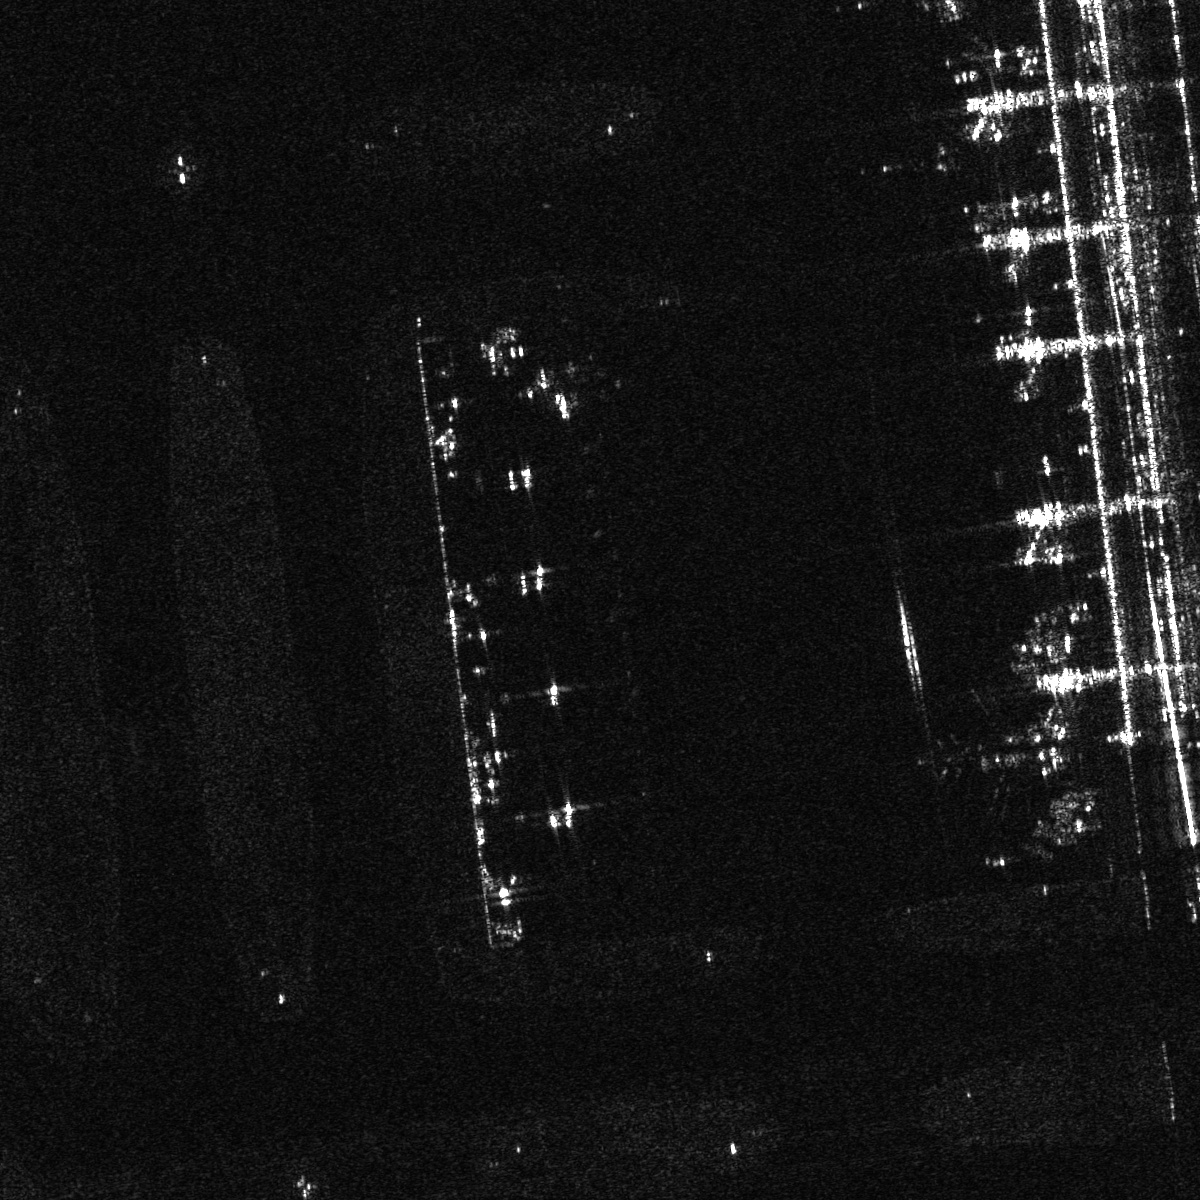A330: (918, 695, 1033, 816)
